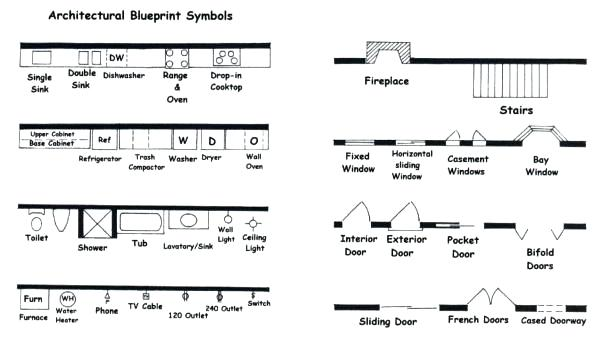door: (457, 276, 521, 315), (363, 285, 446, 315), (503, 217, 594, 242), (383, 195, 424, 234), (430, 210, 487, 234), (340, 196, 372, 232)
window: (511, 119, 569, 153), (442, 126, 489, 154), (340, 133, 380, 150), (387, 135, 430, 148)
